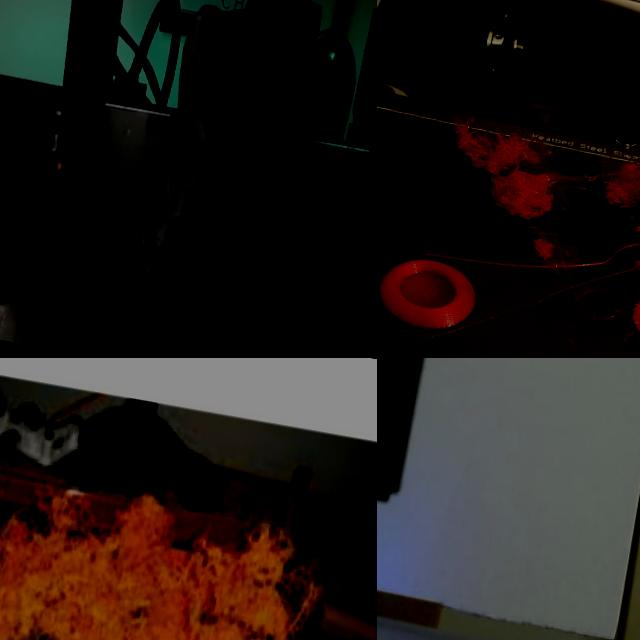spaghetti: (0, 478, 343, 640), (429, 106, 582, 230), (604, 213, 640, 337), (587, 149, 640, 221), (528, 236, 560, 266)
